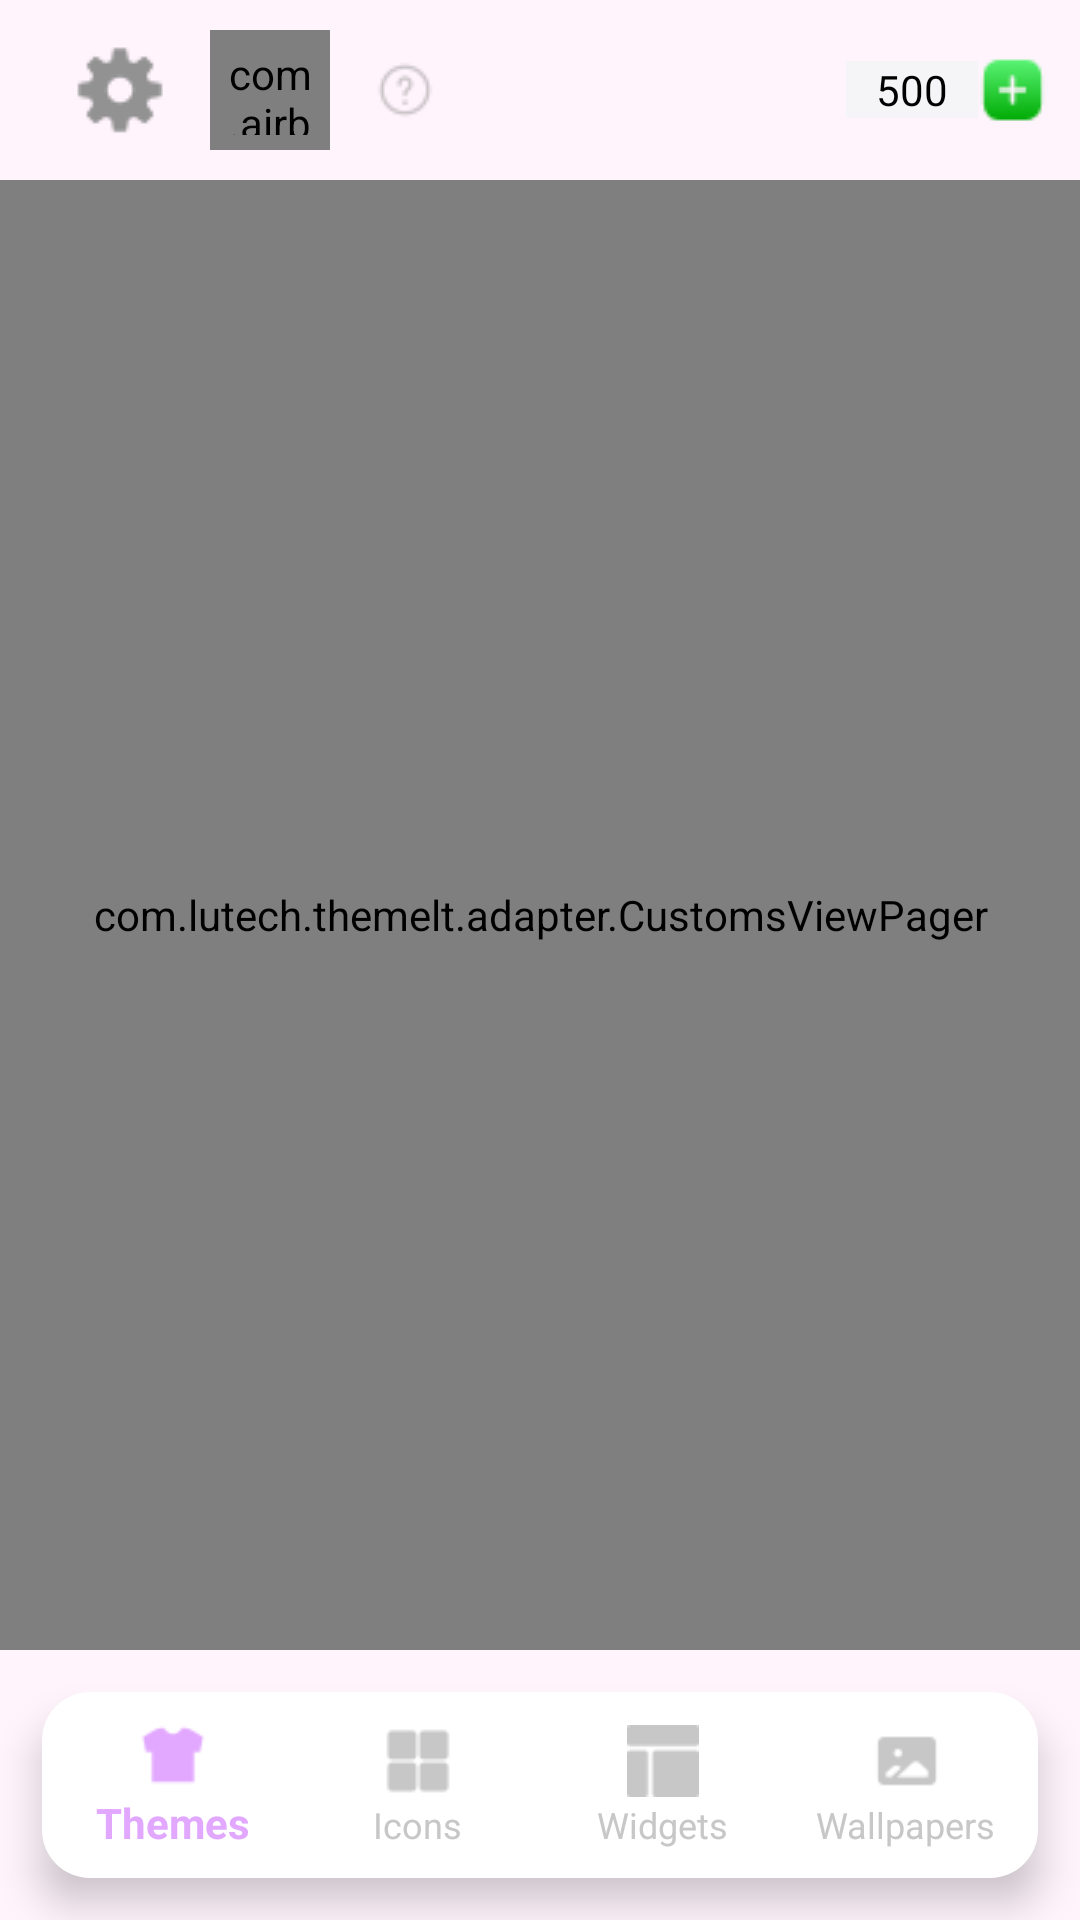

Where to tap for icons on this 1080px×1920px app screen, as (x=x, y=y):
addsquare: (x=1012, y=90)
iconshelp: (x=405, y=90)
iconssetting: (x=120, y=90)
